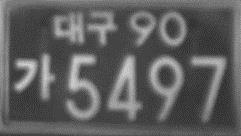0: (159, 9, 186, 47)
4: (106, 55, 143, 122)
5: (65, 53, 101, 120)
7: (188, 54, 228, 124)
9: (147, 55, 186, 123), (128, 9, 156, 47)
가: (12, 52, 56, 101)
대구_O: (52, 9, 117, 48)
